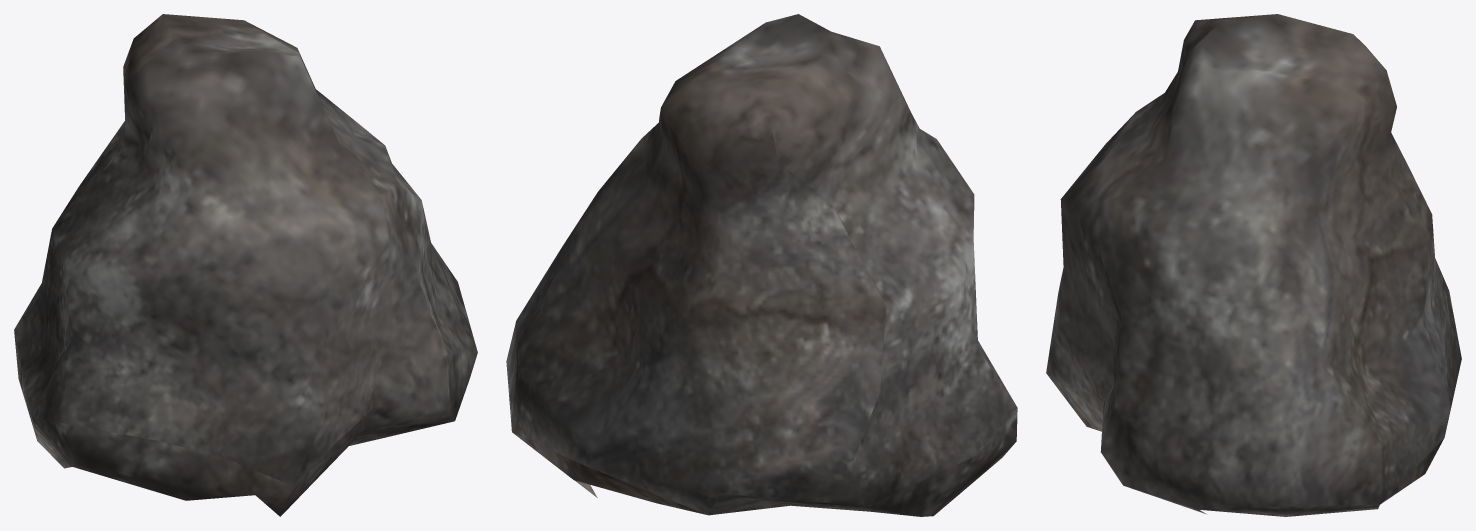
Rendered from N_Rock_2.fbx.
3 renders of one model, left to right at view 1: azimuth 30°, elevation 25°; view 2: azimuth 150°, elevation 25°; view 3: azimuth 270°, elevation 25°, orthographic. The views are drawn at different scales.
Parts seen in each view (by area): view 1: Large_7; view 2: Large_7; view 3: Large_7.
Part boxes in pixels (box(x1,y1,x2,y2)): Large_7: box(14, 14, 477, 516); Large_7: box(506, 14, 1017, 516); Large_7: box(1046, 14, 1461, 516).
Size of the model in its own units: 365 by 333 by 299.
